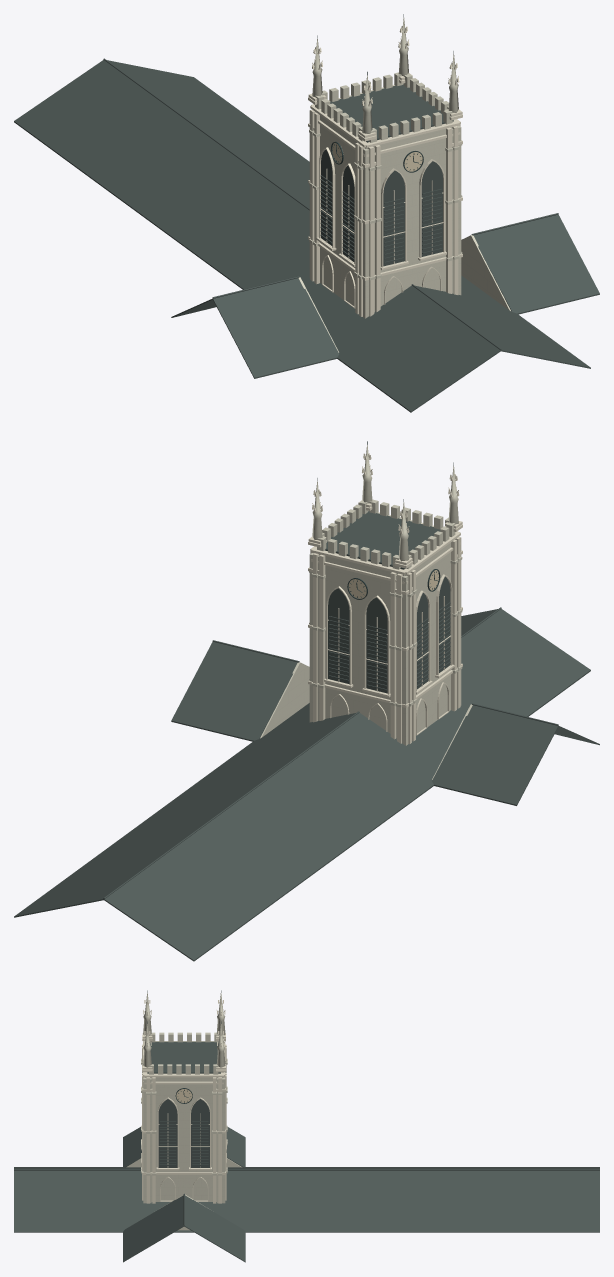
Rendered from KOL_T1_ST_PAULS__04_RoofsTower.fbx.
The picture shows the model from 3 angles, top to bottom: view 1: azimuth 30°, elevation 25°; view 2: azimuth 150°, elevation 25°; view 3: azimuth 270°, elevation 25°; orthographic projection. The views are drawn at different scales.
Parts seen in each view (by area): view 1: KOL_T1_ST_PAULS__04_RoofsTower__KOL_T1_B4_Slate_00, KOL_T1_ST_PAULS__04_RoofsTower__KOL_T1_B4_Stone_00, KOL_T1_ST_PAULS__04_RoofsTower__KOL_T1_B4_Trim_00; view 2: KOL_T1_ST_PAULS__04_RoofsTower__KOL_T1_B4_Slate_00, KOL_T1_ST_PAULS__04_RoofsTower__KOL_T1_B4_Stone_00, KOL_T1_ST_PAULS__04_RoofsTower__KOL_T1_B4_Trim_00; view 3: KOL_T1_ST_PAULS__04_RoofsTower__KOL_T1_B4_Slate_00, KOL_T1_ST_PAULS__04_RoofsTower__KOL_T1_B4_Stone_00, KOL_T1_ST_PAULS__04_RoofsTower__KOL_T1_B4_Trim_00.
Boxes of the visible parts, left/top/right/bottom form: KOL_T1_ST_PAULS__04_RoofsTower__KOL_T1_B4_Slate_00: left=14, top=58, right=599, bottom=412; KOL_T1_ST_PAULS__04_RoofsTower__KOL_T1_B4_Stone_00: left=298, top=18, right=510, bottom=352; KOL_T1_ST_PAULS__04_RoofsTower__KOL_T1_B4_Trim_00: left=308, top=26, right=462, bottom=316; KOL_T1_ST_PAULS__04_RoofsTower__KOL_T1_B4_Slate_00: left=14, top=511, right=599, bottom=961; KOL_T1_ST_PAULS__04_RoofsTower__KOL_T1_B4_Stone_00: left=260, top=445, right=472, bottom=779; KOL_T1_ST_PAULS__04_RoofsTower__KOL_T1_B4_Trim_00: left=308, top=453, right=462, bottom=744; KOL_T1_ST_PAULS__04_RoofsTower__KOL_T1_B4_Slate_00: left=14, top=1041, right=599, bottom=1262; KOL_T1_ST_PAULS__04_RoofsTower__KOL_T1_B4_Stone_00: left=126, top=993, right=241, bottom=1230; KOL_T1_ST_PAULS__04_RoofsTower__KOL_T1_B4_Trim_00: left=141, top=1000, right=226, bottom=1203.
Bounding box in the file's own units: 96 × 69.92 × 191.
5 materials, 1 textured.
